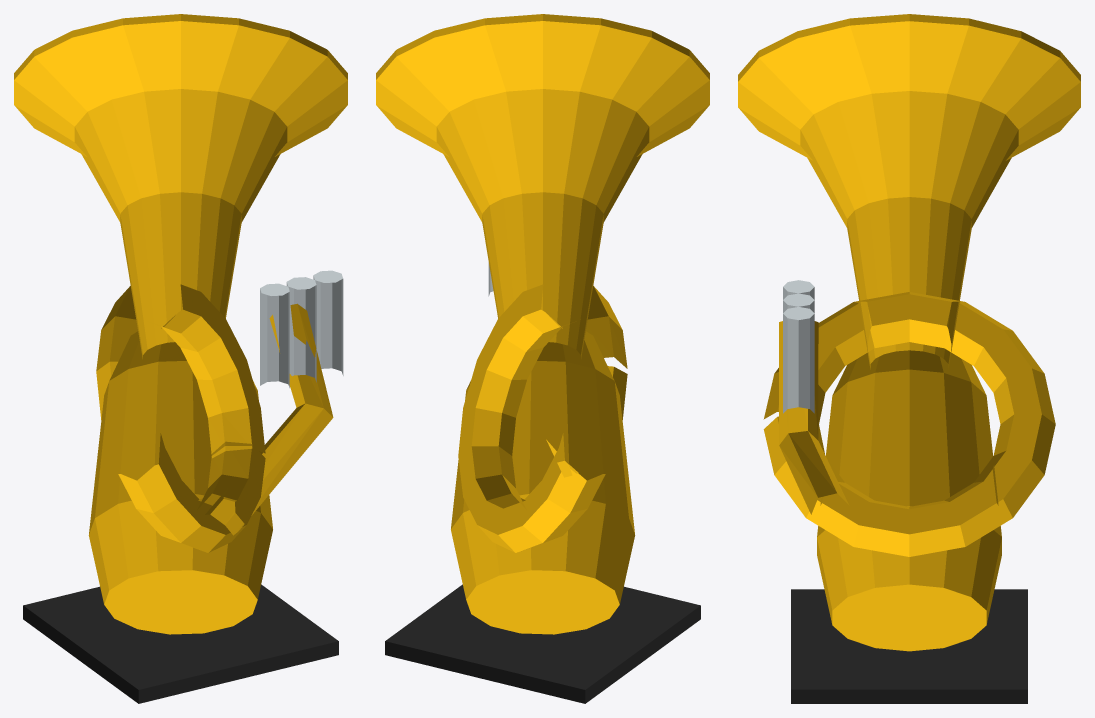
File: tuba.glb
3 views of the same model, side by side, from view 1: azimuth 30°, elevation 25°; view 2: azimuth 150°, elevation 25°; view 3: azimuth 270°, elevation 25° (orthographic). The views are drawn at different scales.
Visible parts, largest first — view 1: tuba; view 2: tuba; view 3: tuba.
Part boxes in pixels (x1,y1,x2,y2): tuba: (14,14,347,703); tuba: (376,14,709,703); tuba: (738,14,1080,703).
Bounding box in the file's own units: 0.44 × 0.79 × 0.4333.
